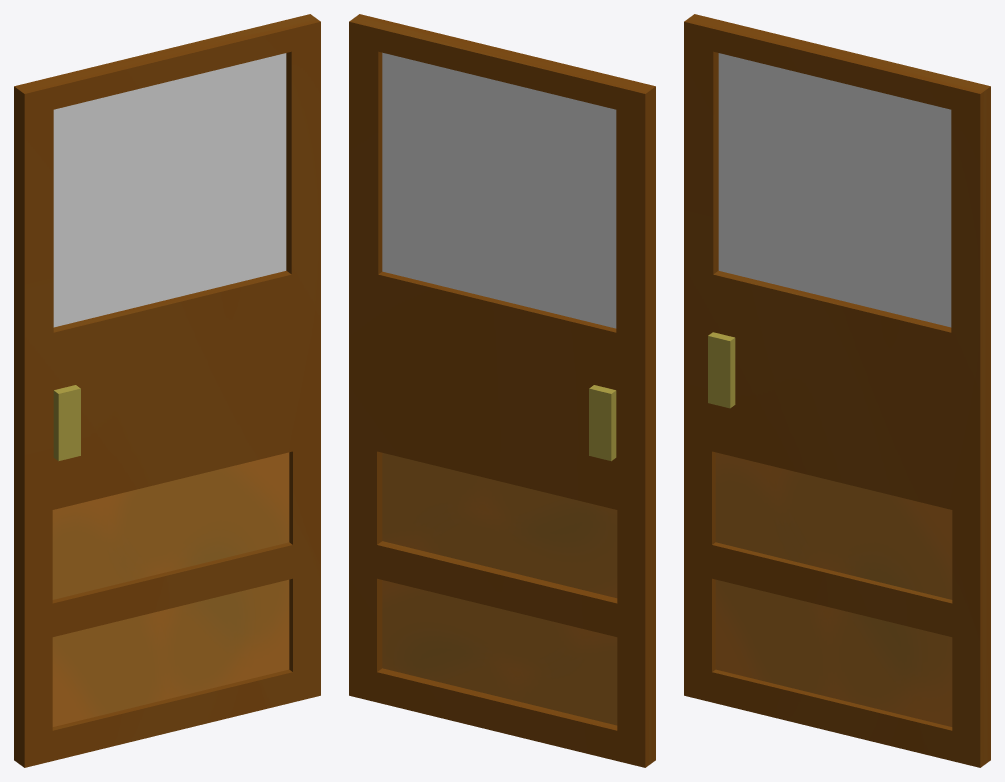
Rendered from door.fbx.
The picture shows the model from 3 angles, left to right: view 1: azimuth 30°, elevation 25°; view 2: azimuth 150°, elevation 25°; view 3: azimuth 330°, elevation 25°; orthographic projection.
Visible parts, largest first — view 1: DOOR, DOOR-glass; view 2: DOOR, DOOR-glass; view 3: DOOR, DOOR-glass.
Boxes of the visible parts, x1,y1,x2,y2 form: DOOR: (14,14,320,767); DOOR-glass: (53,53,286,327); DOOR: (349,14,655,767); DOOR-glass: (382,52,616,328); DOOR: (684,14,990,767); DOOR-glass: (718,53,951,327).
Size of the model in its own units: 473 by 1028 by 57.01.
